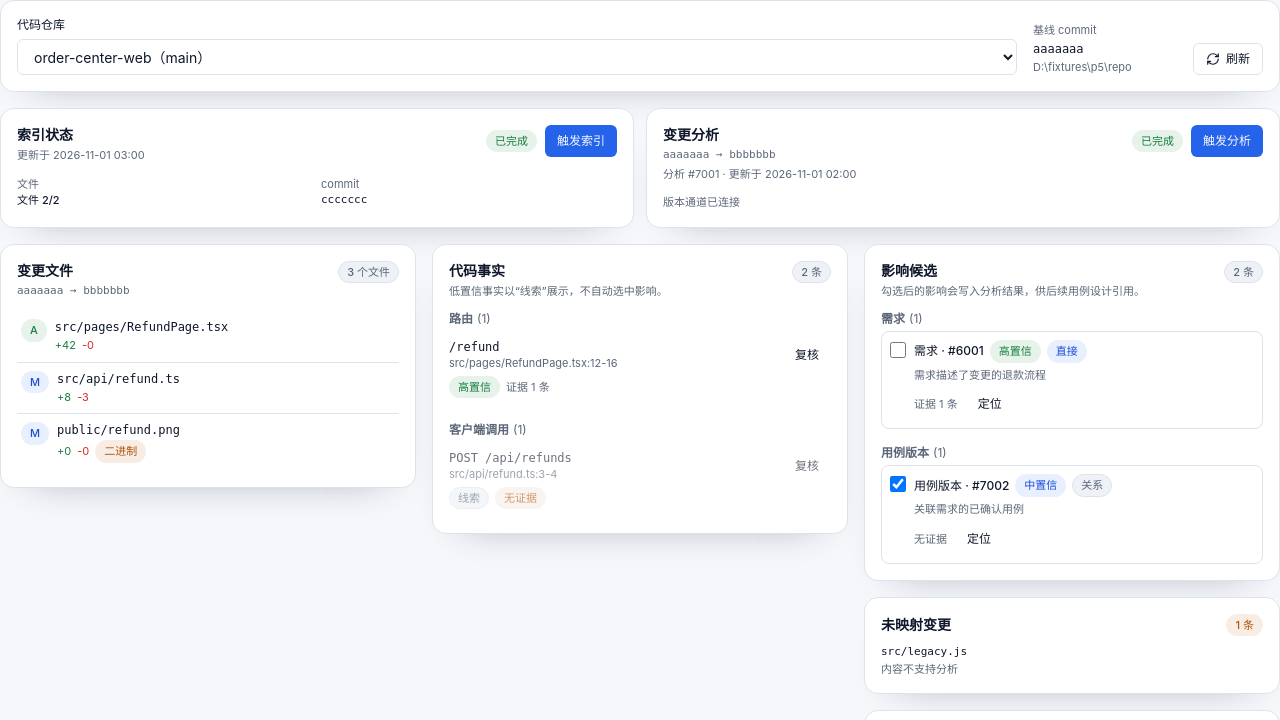
it: CodeTab › reviews a fact with a verdict and reason
Check: the element named "代码仓库状态" is shown, box [0, 0, 1279, 92]
Check: the list item named "查看事实 /refund" is shown, box [449, 331, 831, 406]
Click the 1st button "复核" at (807, 355), box [783, 339, 831, 371]
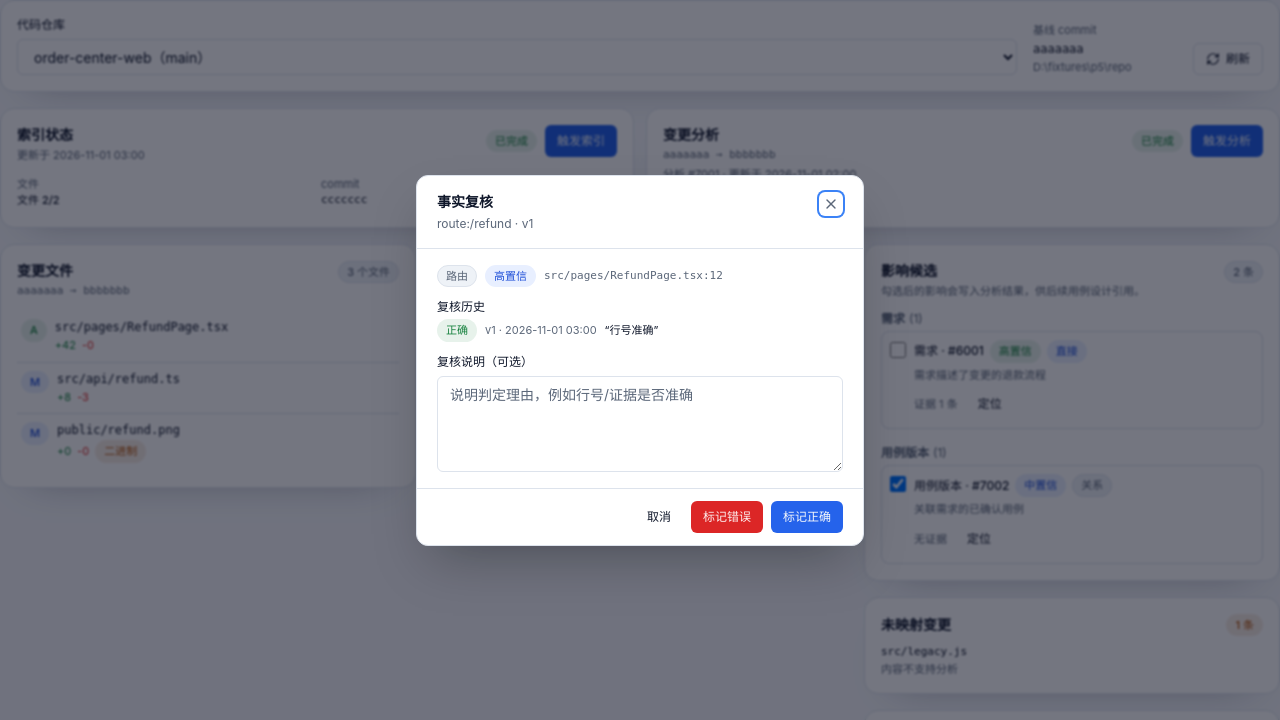
Check: the text "“行号准确”" is shown, box [605, 322, 658, 338]
Type "行号准确" into the text box labelled "复核说明（可选）" at (640, 424), box [437, 376, 843, 472]
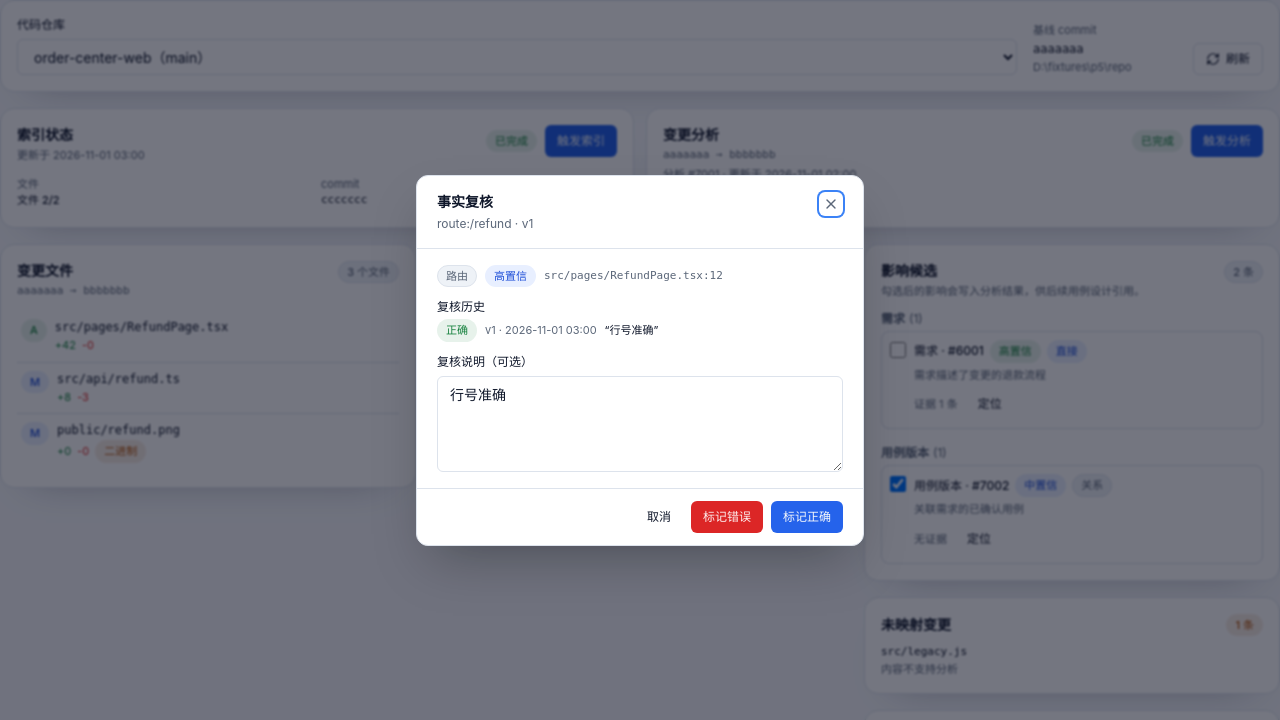
Click the button "标记正确" at (807, 516), box [771, 500, 843, 532]
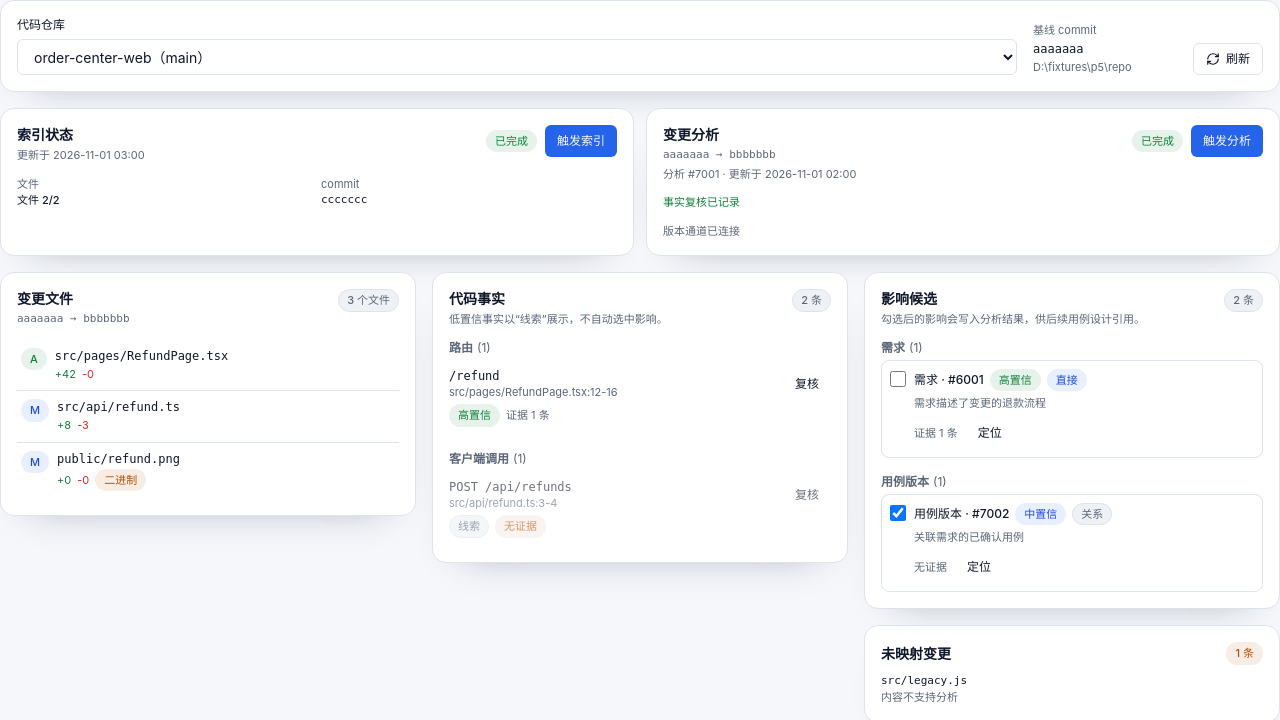
Check: the text "事实复核已记录" is shown, box [663, 195, 740, 209]
Check: the dialog is gone
